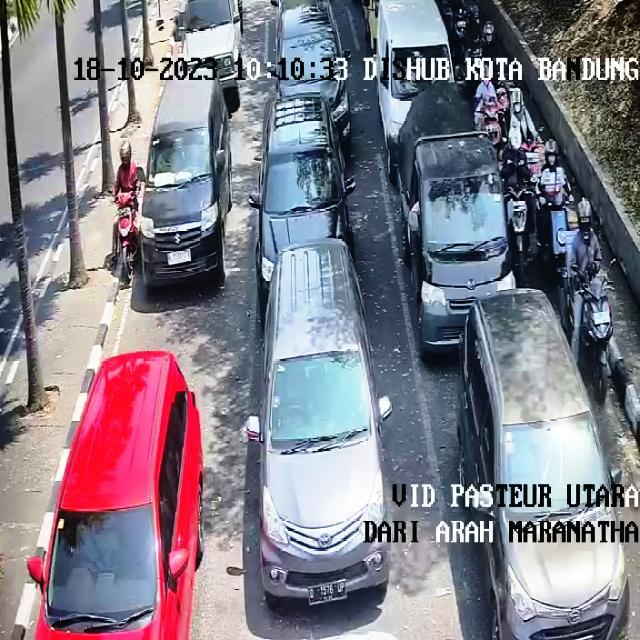car: (459, 290, 640, 640), (246, 240, 391, 604), (26, 351, 204, 639), (399, 84, 515, 354), (249, 96, 355, 312), (134, 81, 232, 302), (378, 0, 454, 179), (276, 0, 350, 141), (181, 0, 241, 113)
motorcycle: (114, 191, 139, 284)
motorcyclist: (560, 200, 612, 401), (536, 140, 570, 254), (508, 88, 541, 152), (474, 80, 502, 144), (114, 141, 140, 194)
